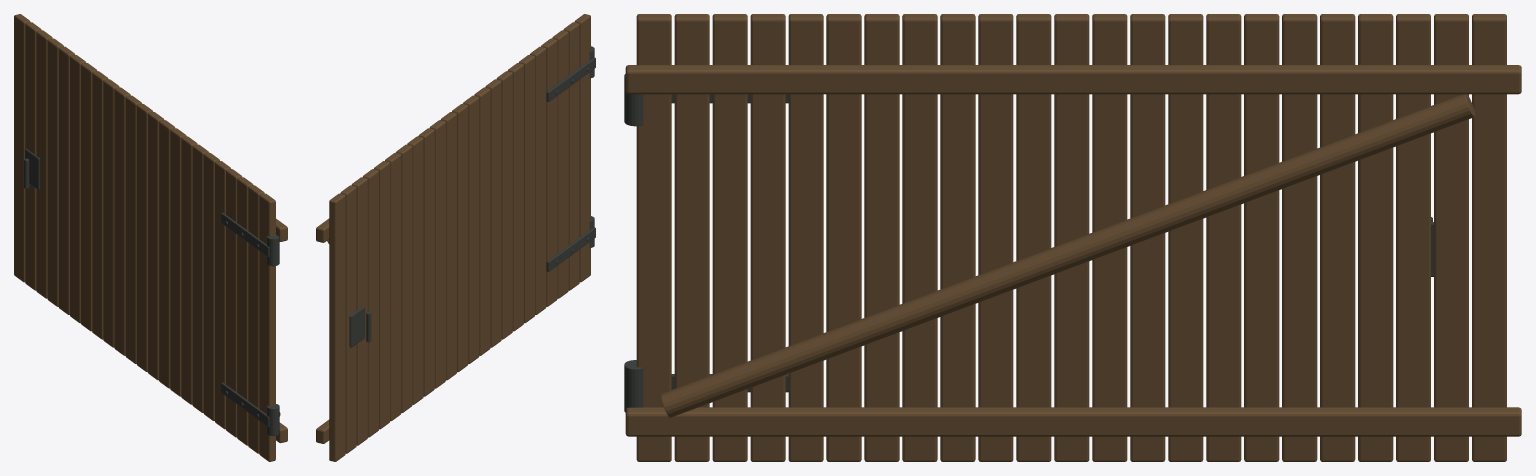
File: BridgeGateLeaf.fbx
3 views of the same model, side by side, from view 1: azimuth 30°, elevation 25°; view 2: azimuth 150°, elevation 25°; view 3: azimuth 270°, elevation 25° (orthographic). The views are drawn at different scales.
Parts seen in each view (by area): view 1: BridgeGateLeaf; view 2: BridgeGateLeaf; view 3: BridgeGateLeaf.
Part boxes in pixels (x1,y1,x2,y2): BridgeGateLeaf: [14, 14, 287, 461]; BridgeGateLeaf: [316, 14, 595, 461]; BridgeGateLeaf: [624, 14, 1521, 461].
Size of the model in its own units: 33.1 by 473 by 258.
